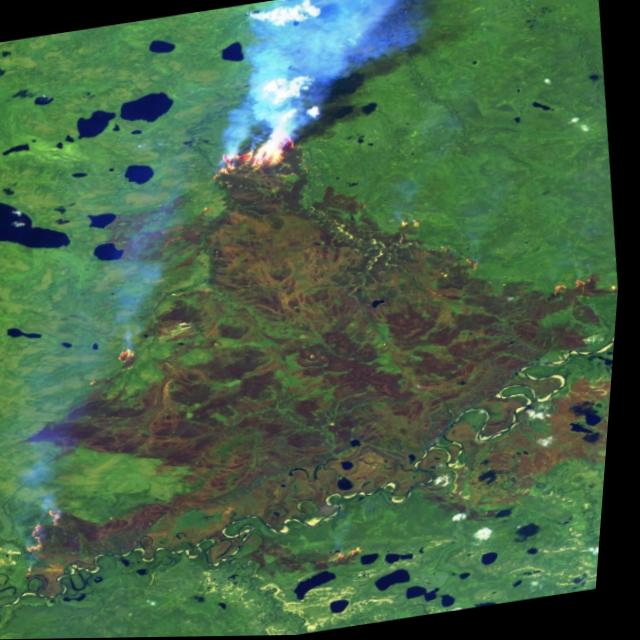fire: (202, 124, 317, 185), (16, 499, 91, 584), (544, 266, 624, 309), (390, 204, 436, 243), (108, 343, 154, 376)
